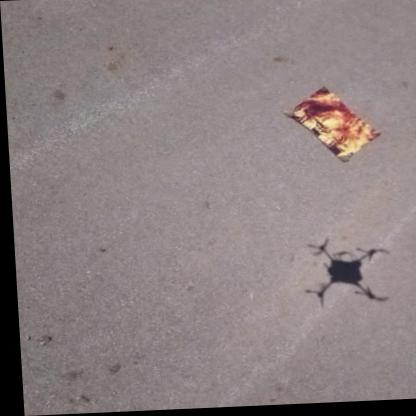fire-poster: (279, 86, 383, 167)
